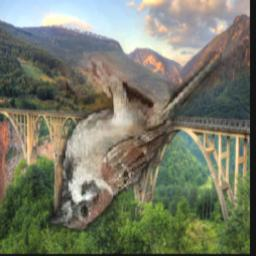Sparrow: (48, 52, 222, 234)
